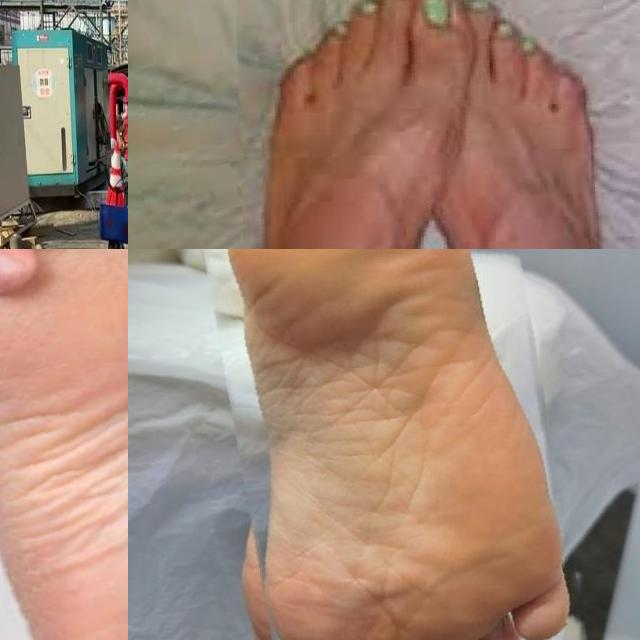Barefoots: (231, 249, 584, 640), (395, 0, 618, 249), (264, 0, 481, 249), (0, 249, 128, 640)
